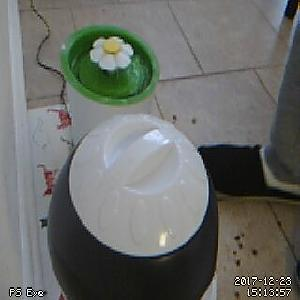fountain: (58, 26, 160, 106)
